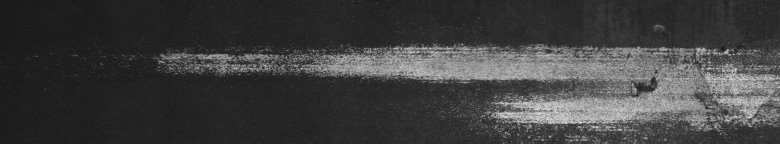kb: (125, 25, 776, 136)
